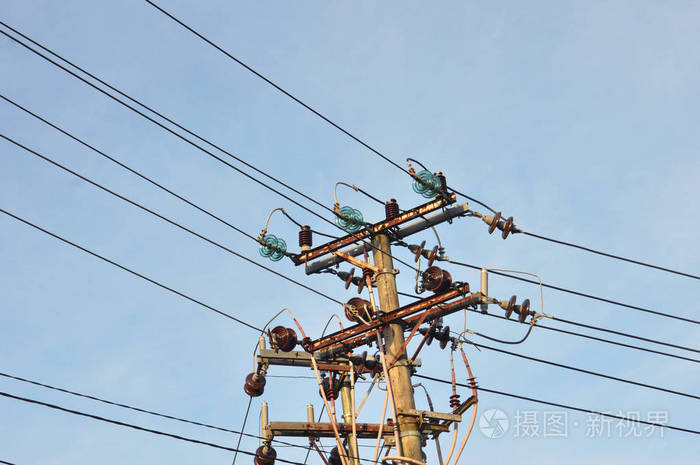insulator: (336, 204, 367, 234), (256, 235, 289, 263), (267, 323, 300, 351), (411, 170, 442, 199), (484, 212, 516, 239), (502, 294, 532, 322), (423, 267, 454, 294), (421, 325, 452, 351), (354, 349, 380, 380), (413, 240, 438, 267), (344, 298, 372, 322), (343, 267, 367, 293), (243, 374, 265, 398), (255, 444, 275, 465)
